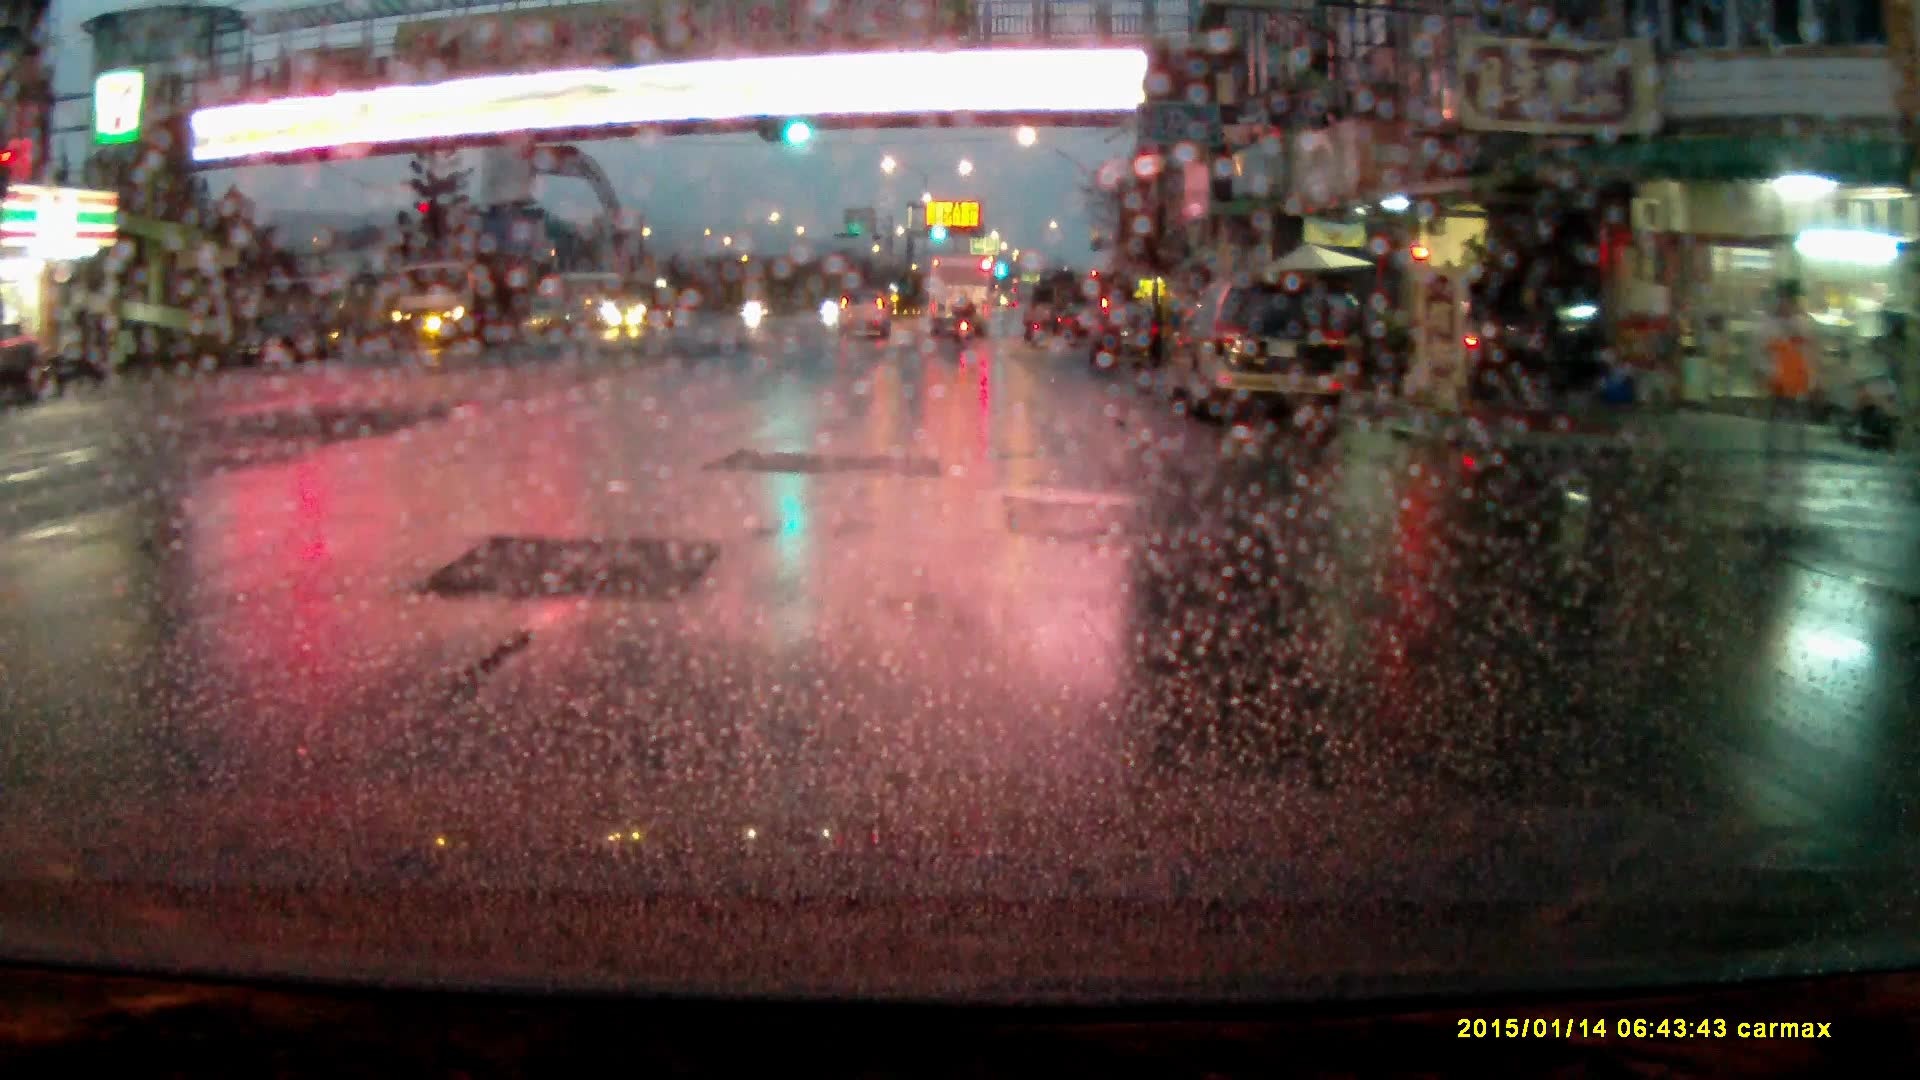pedestrian: (1744, 274, 1833, 506)
rider: (951, 292, 977, 352)
vehicle: (1167, 280, 1354, 423), (1475, 287, 1607, 398), (385, 257, 522, 349), (927, 256, 993, 335), (1, 317, 55, 406), (1089, 308, 1166, 369), (608, 281, 680, 337), (839, 294, 895, 343), (1057, 301, 1101, 343)
